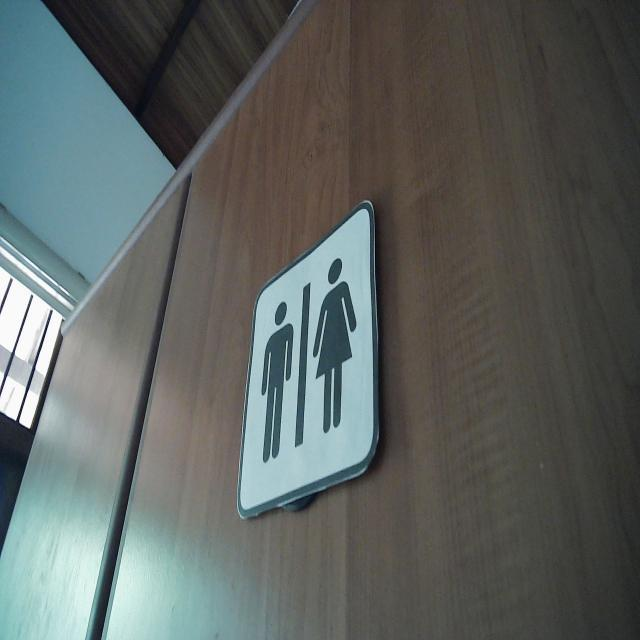restroom: (235, 197, 382, 524)
